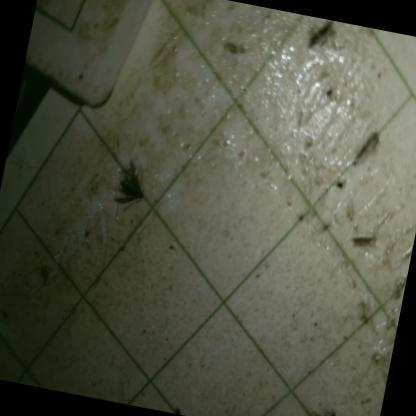prays_oleae: (88, 139, 156, 225), (303, 393, 341, 416)
